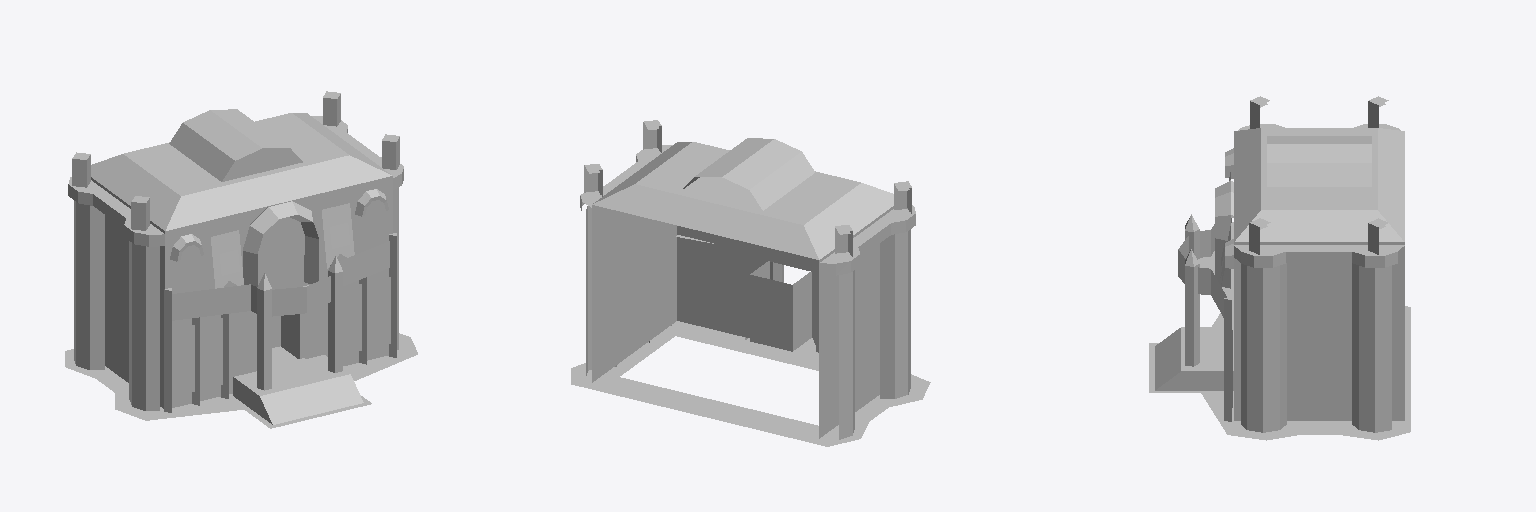
The model's file is Battle Subway.obj.
3 views of the same model, side by side, from view 1: azimuth 30°, elevation 25°; view 2: azimuth 150°, elevation 25°; view 3: azimuth 270°, elevation 25° (orthographic).
Visible parts, largest first — view 1: polygon8, polygon7, polygon4, polygon5, polygon2, polygon6, polygon3; view 2: polygon8, polygon2, polygon7, polygon3, polygon0, polygon6, polygon1, polygon4; view 3: polygon8, polygon7, polygon2, polygon5, polygon3, polygon6, polygon4.
Boxes of the visible parts, box(x1,y1,x2,y2) form: polygon8: box(91, 109, 392, 290); polygon7: box(68, 116, 403, 410); polygon4: box(72, 91, 399, 396); polygon5: box(211, 203, 363, 424); polygon2: box(105, 194, 392, 408); polygon6: box(164, 233, 396, 412); polygon3: box(65, 285, 417, 428); polygon8: box(592, 138, 893, 277); polygon2: box(592, 209, 879, 438); polygon7: box(580, 145, 915, 439); polygon3: box(571, 321, 930, 446); polygon0: box(677, 226, 818, 351); polygon6: box(676, 235, 811, 351); polygon1: box(586, 127, 909, 254); polygon4: box(584, 120, 911, 256); polygon8: box(1185, 128, 1404, 268); polygon7: box(1234, 124, 1404, 432); polygon2: box(1234, 260, 1404, 420); polygon5: box(1155, 172, 1233, 390); polygon3: box(1149, 264, 1410, 440); polygon6: box(1178, 218, 1233, 421); polygon4: box(1249, 96, 1388, 254).
Size of the model in its own units: 208 by 151 by 160.